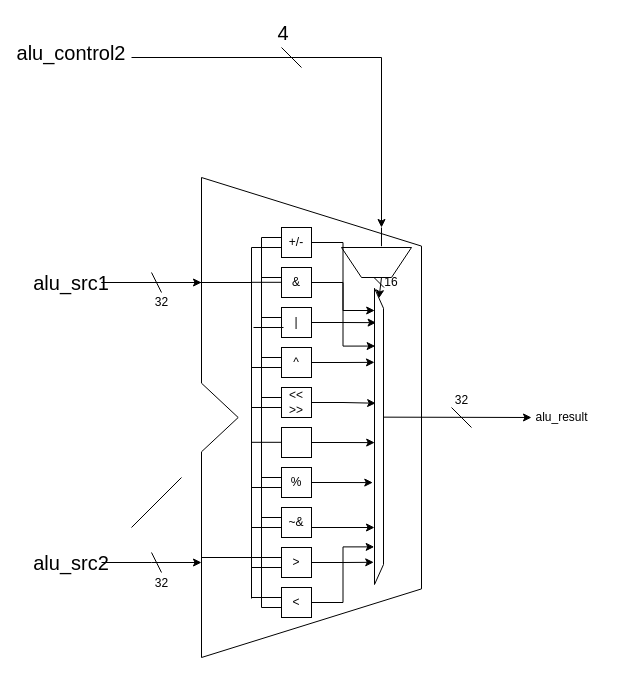
The diagram is 619 pixels wide and 676 high, and some of its shapes have lost their labels. Each missing label, with the centre of its shape:
"en code" belongs at (x=376, y=262).
"LUI" belongs at (x=296, y=442).
